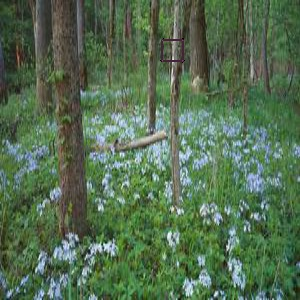square: (160, 37, 187, 63)
